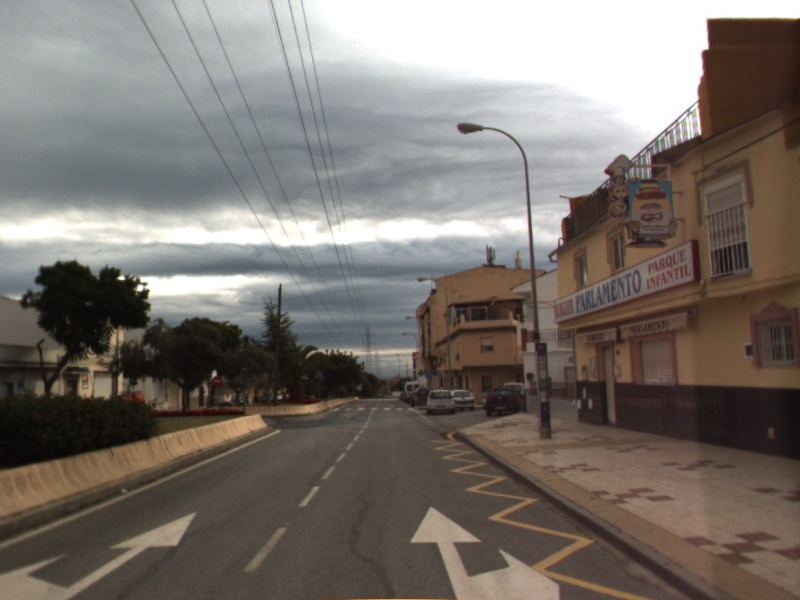STRAIGHT_LEFT: (1, 507, 200, 600)
STRAIGHT_RIGHT: (406, 502, 563, 600)
